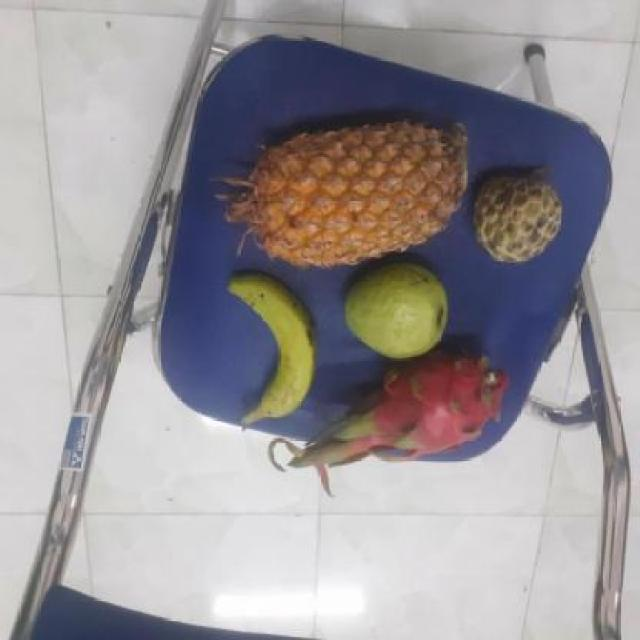banana: (220, 269, 318, 420)
dragon fruit: (313, 343, 504, 466)
guava: (339, 264, 452, 361)
pineapple: (235, 116, 463, 269)
sugar apple: (468, 171, 564, 264)
